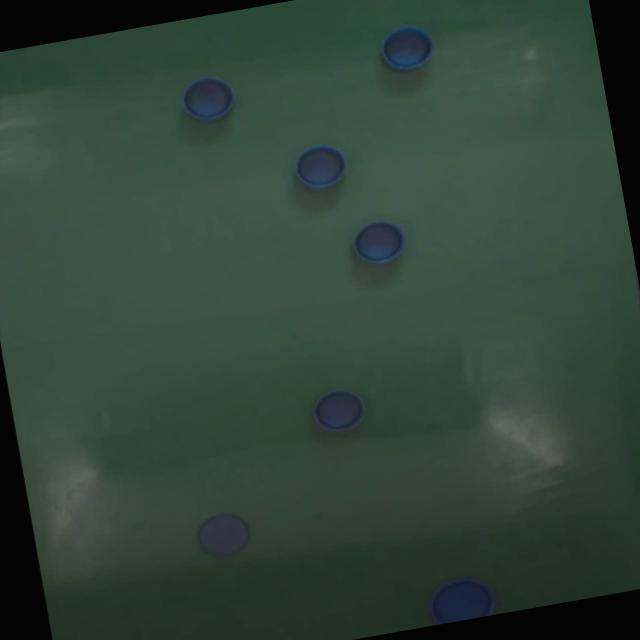dark blue: (378, 20, 438, 74), (179, 72, 238, 124), (310, 385, 368, 436), (432, 575, 494, 622), (196, 509, 253, 560), (351, 218, 408, 268), (290, 144, 348, 192)
